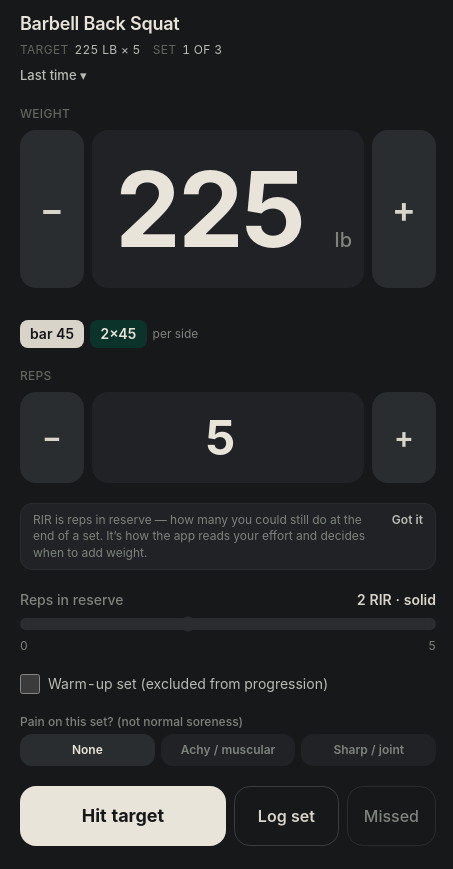
LogSet screen › reveals per-exercise history in one tap from Log Set
Expected: the text "225 × 5" is not shown
Step 1. Click the button "Last time ▾" → x=53, y=76, box [20,66,87,86]
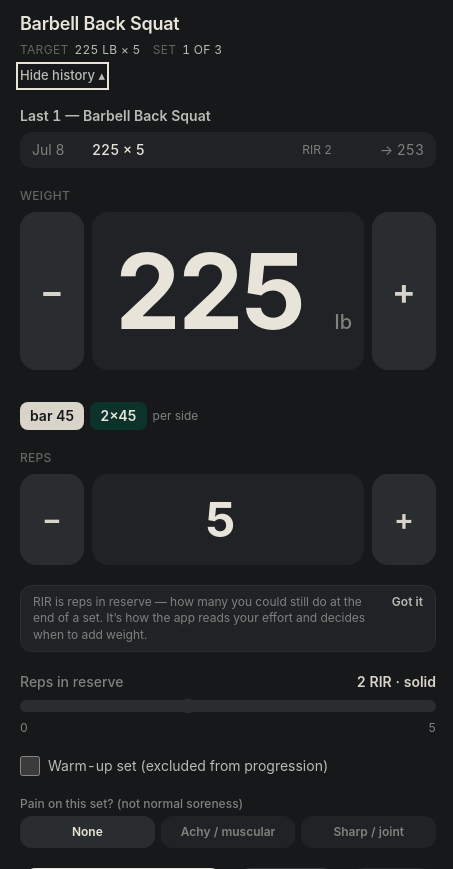
Now the text "225 × 5" is shown, box [92,140,145,158]
